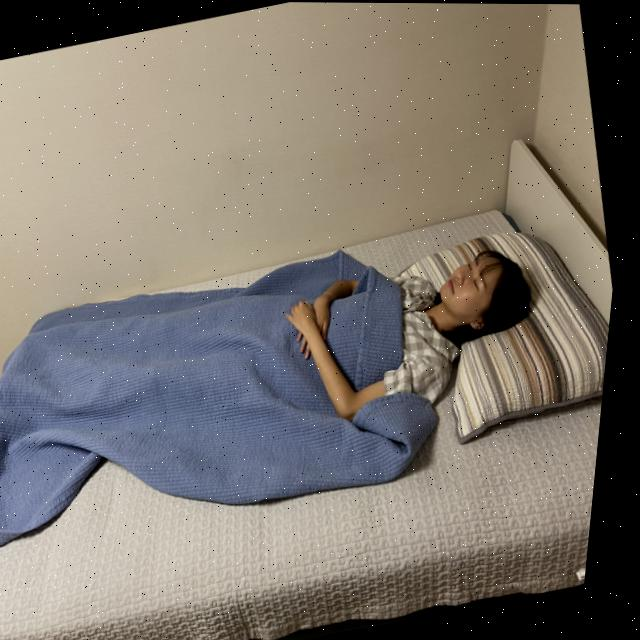sleeping-person: (0, 180, 593, 584)
